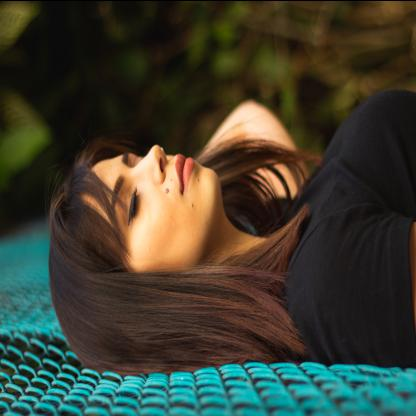Eye: (116, 185, 142, 225)
Mouth: (170, 143, 202, 195)
Nose: (132, 143, 168, 189)
